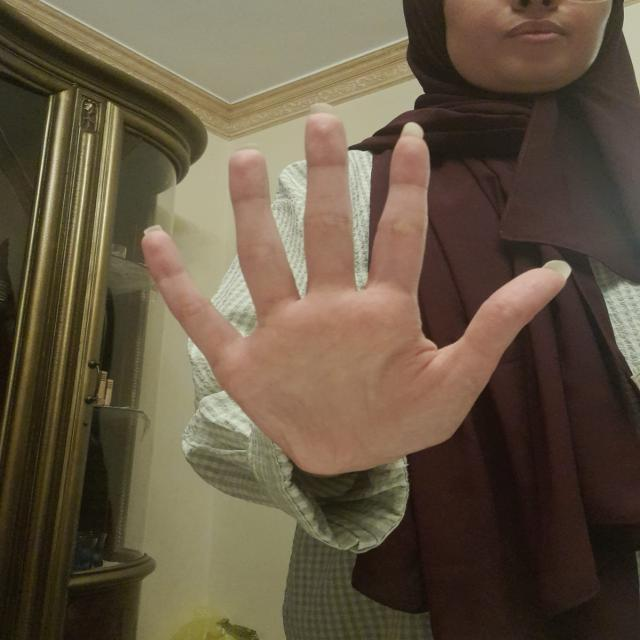Open Hand: (138, 113, 562, 476)
